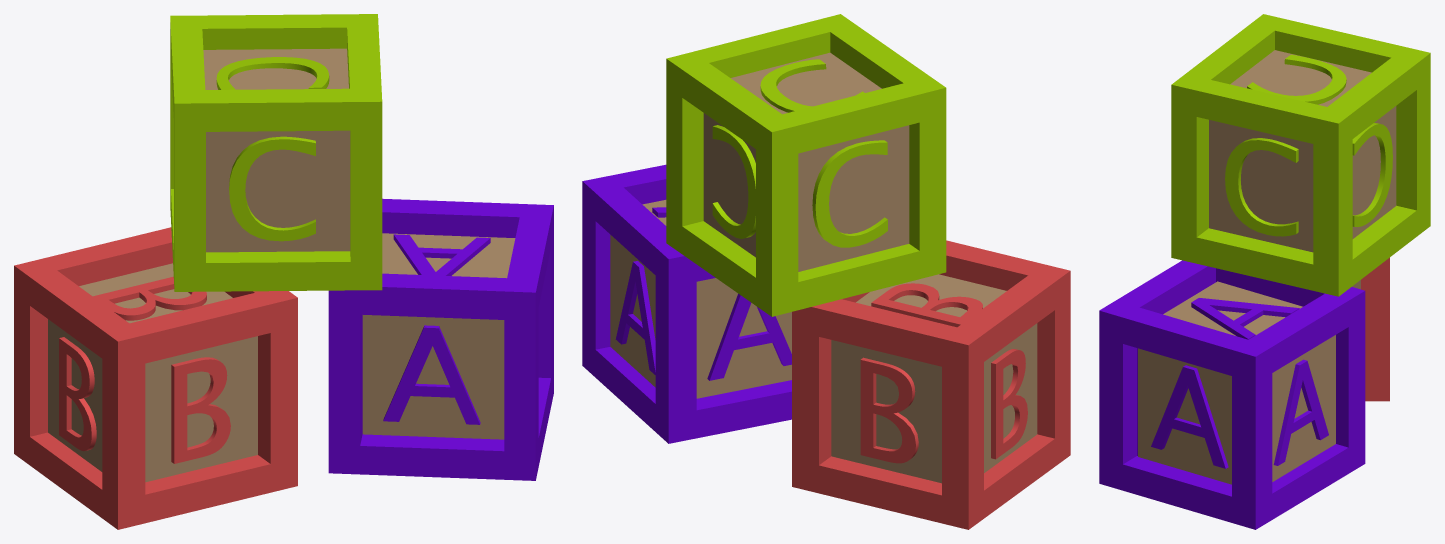
The model's file is ABC_Spielwuerfel.fbx.
3 views of the same model, side by side, from view 1: azimuth 30°, elevation 25°; view 2: azimuth 150°, elevation 25°; view 3: azimuth 270°, elevation 25° (orthographic). The views are drawn at different scales.
Visible parts, largest first — view 1: typeMesh4; view 2: typeMesh4; view 3: typeMesh4.
Part boxes in pixels (x1,y1,x2,y2): typeMesh4: (14, 14, 553, 529); typeMesh4: (582, 14, 1070, 529); typeMesh4: (1099, 14, 1430, 529).
Bounding box in the file's own units: 105 × 81.36 × 70.32.
